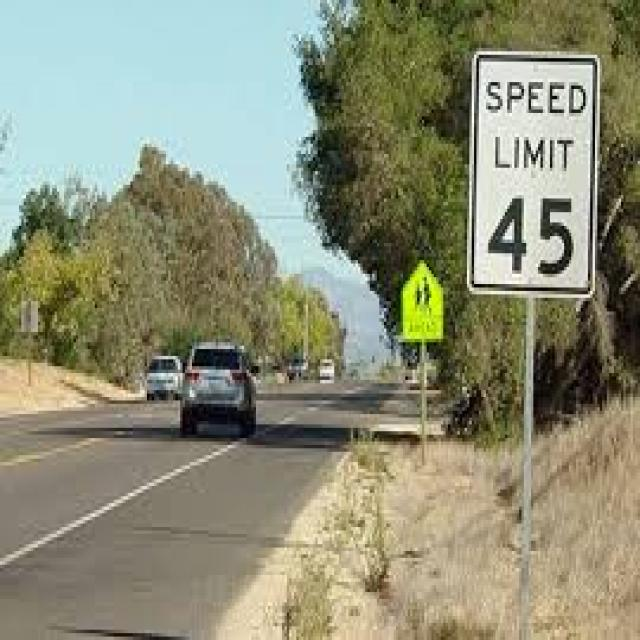speedLimit45: (475, 45, 596, 291)
